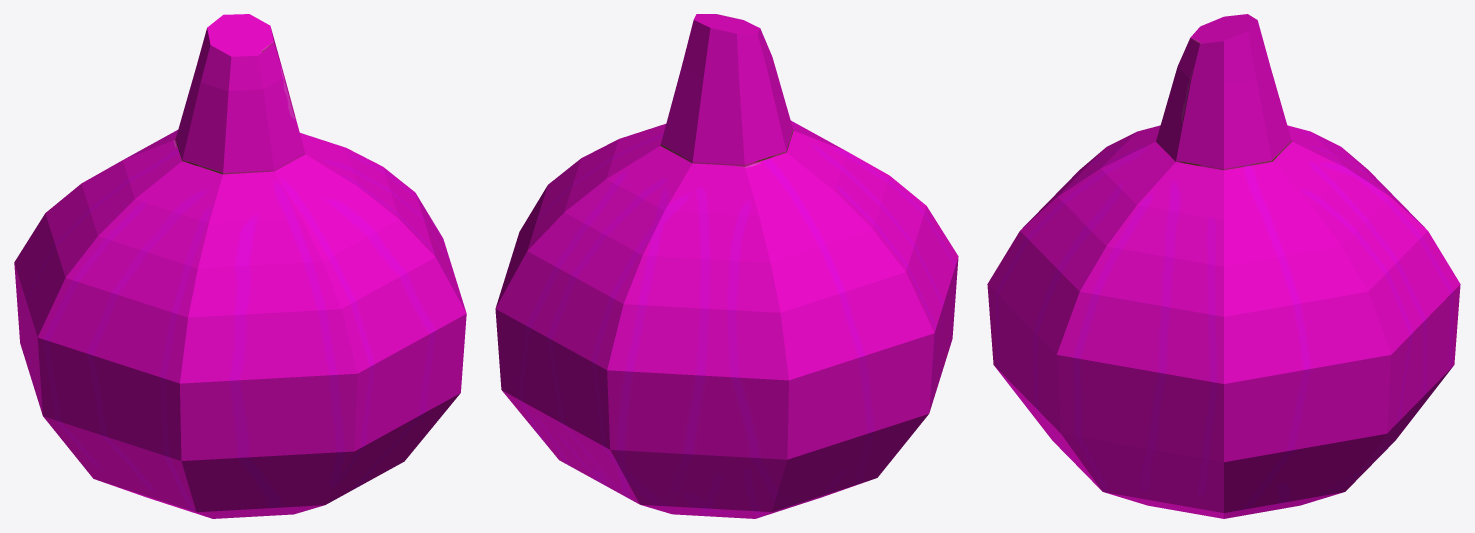
The model's file is onion.fbx.
3 renders of one model, left to right at view 1: azimuth 30°, elevation 25°; view 2: azimuth 150°, elevation 25°; view 3: azimuth 270°, elevation 25°, orthographic. The views are drawn at different scales.
Parts seen in each view (by area): view 1: Sphere; view 2: Sphere; view 3: Sphere.
Boxes of the visible parts, x1,y1,x2,y2 form: Sphere: [14, 14, 466, 518]; Sphere: [495, 14, 958, 518]; Sphere: [987, 14, 1460, 518].
Size of the model in its own units: 263 by 288 by 263.
